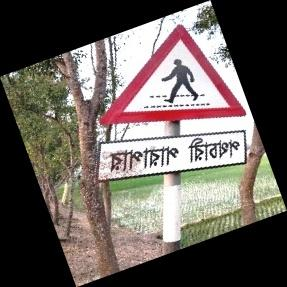Pedestrian-crossing: (98, 22, 253, 182)
